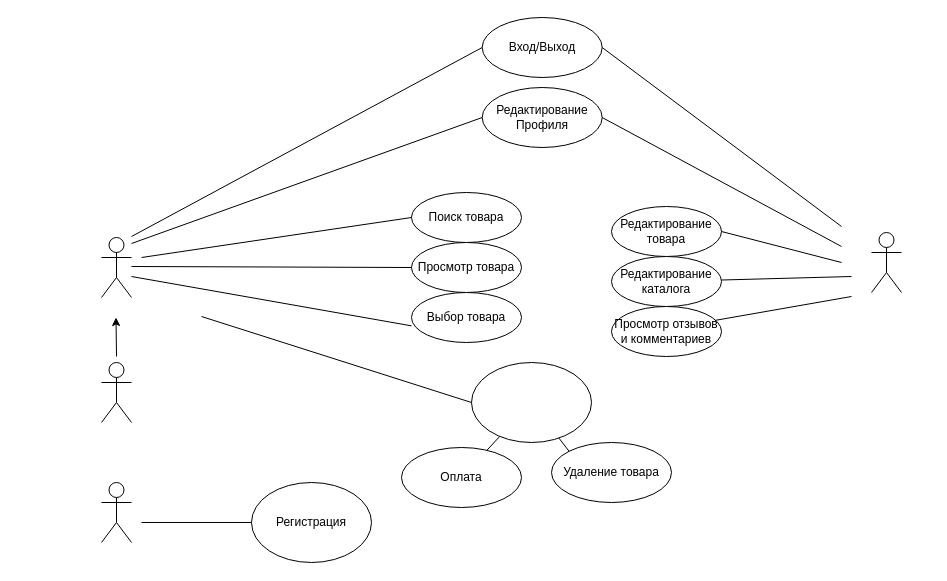
This 947x581 diagram has some shape labels left out. Each missing label, with the box of its shape:
Администратор: (870, 232, 902, 292)
Зарегестрированный Пользователь: (100, 362, 132, 422)
Новый Пользователь: (100, 482, 132, 542)
Пользователь: (100, 236, 132, 298)
Работа с корзиной: (470, 362, 592, 442)
